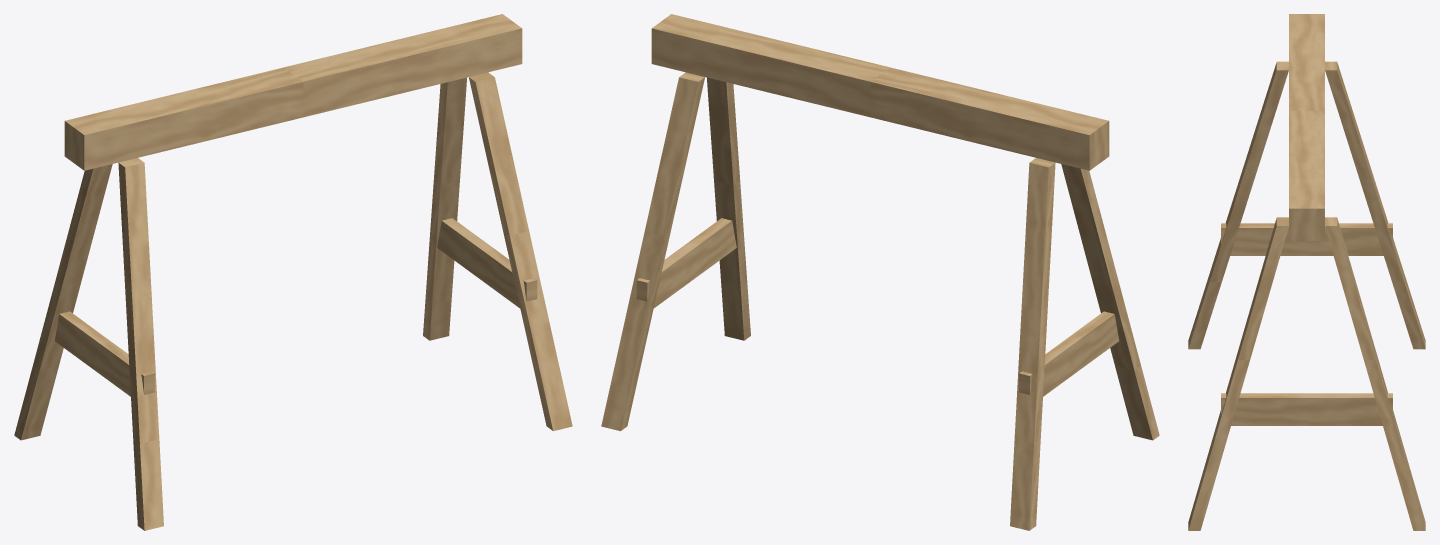
3 renders of one model, left to right at view 1: azimuth 30°, elevation 25°; view 2: azimuth 150°, elevation 25°; view 3: azimuth 270°, elevation 25°, orthographic. The views are drawn at different scales.
Visible parts, largest first — view 1: Sawhorse, wooden; view 2: Sawhorse, wooden; view 3: Sawhorse, wooden.
Boxes of the visible parts, left/top/right/bottom form: Sawhorse, wooden: left=14, top=14, right=572, bottom=530; Sawhorse, wooden: left=601, top=14, right=1159, bottom=530; Sawhorse, wooden: left=1188, top=14, right=1425, bottom=530.
Bounding box in the file's own units: 0.9 × 0.7 × 0.464.
Materials: 1 (1 with a texture image).
